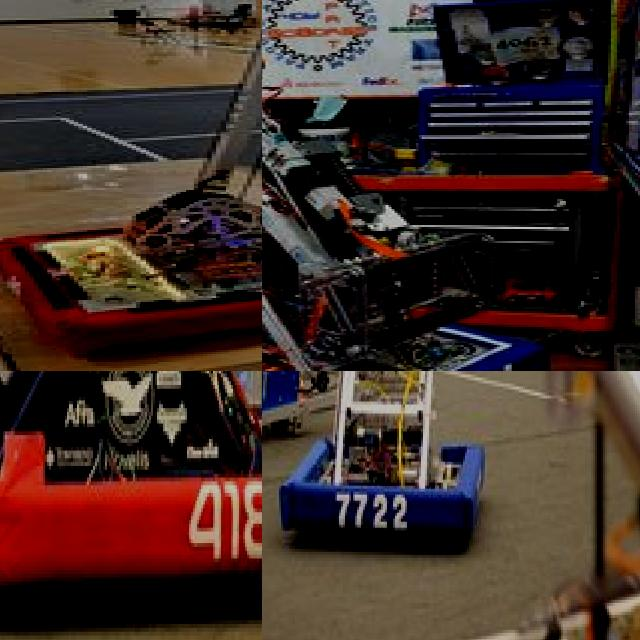FRC-Robots: (262, 22, 595, 371), (12, 0, 262, 367), (0, 371, 262, 619), (276, 371, 492, 532)
